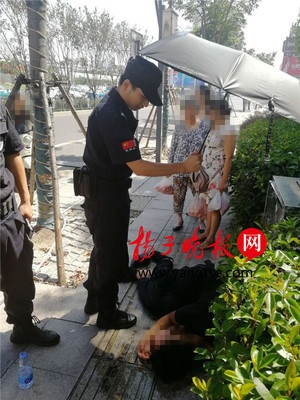falling: (128, 235, 226, 387)
